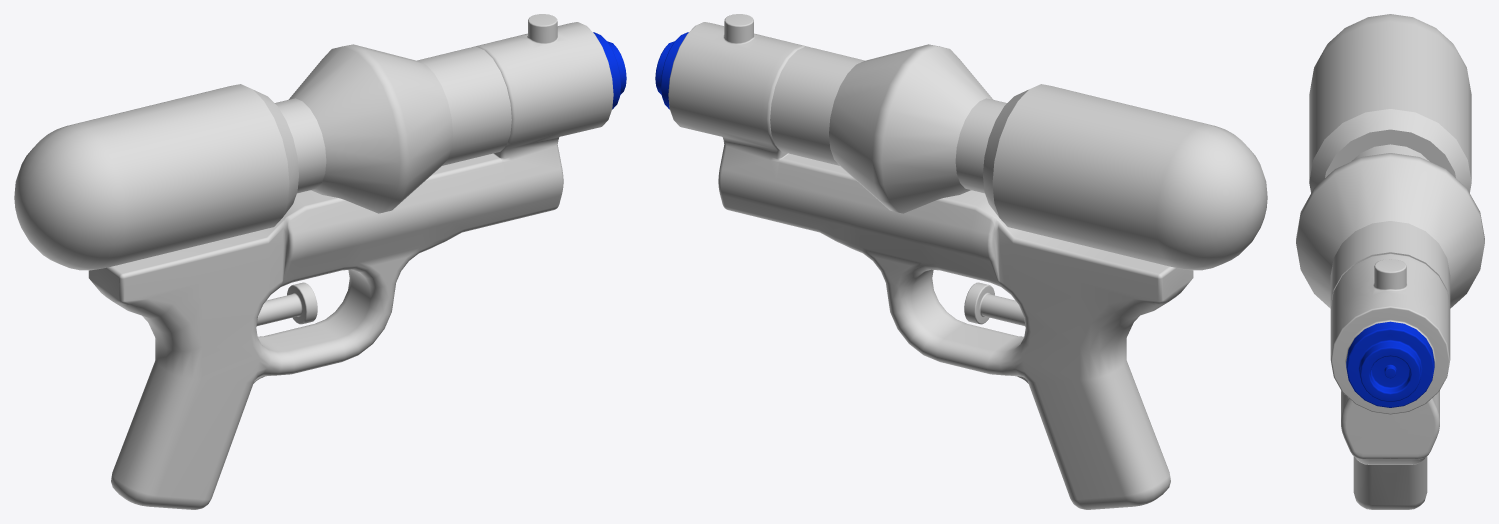
File: WaterGun.glb
The picture shows the model from 3 angles, left to right: view 1: azimuth 30°, elevation 25°; view 2: azimuth 150°, elevation 25°; view 3: azimuth 270°, elevation 25°; orthographic projection. The views are drawn at different scales.
Parts seen in each view (by area): view 1: WaterGun; view 2: WaterGun; view 3: WaterGun.
Boxes of the visible parts, bbox=[...] form: WaterGun: bbox=[14, 14, 626, 509]; WaterGun: bbox=[655, 14, 1267, 509]; WaterGun: bbox=[1296, 14, 1484, 509].
Bounding box in the file's own units: 7.04 × 4.66 × 1.79.
